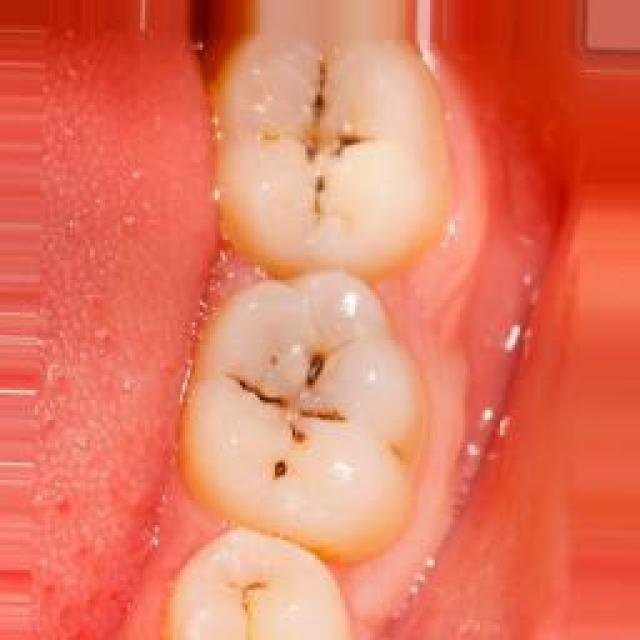decay: (243, 355, 343, 477), (275, 78, 367, 208)
